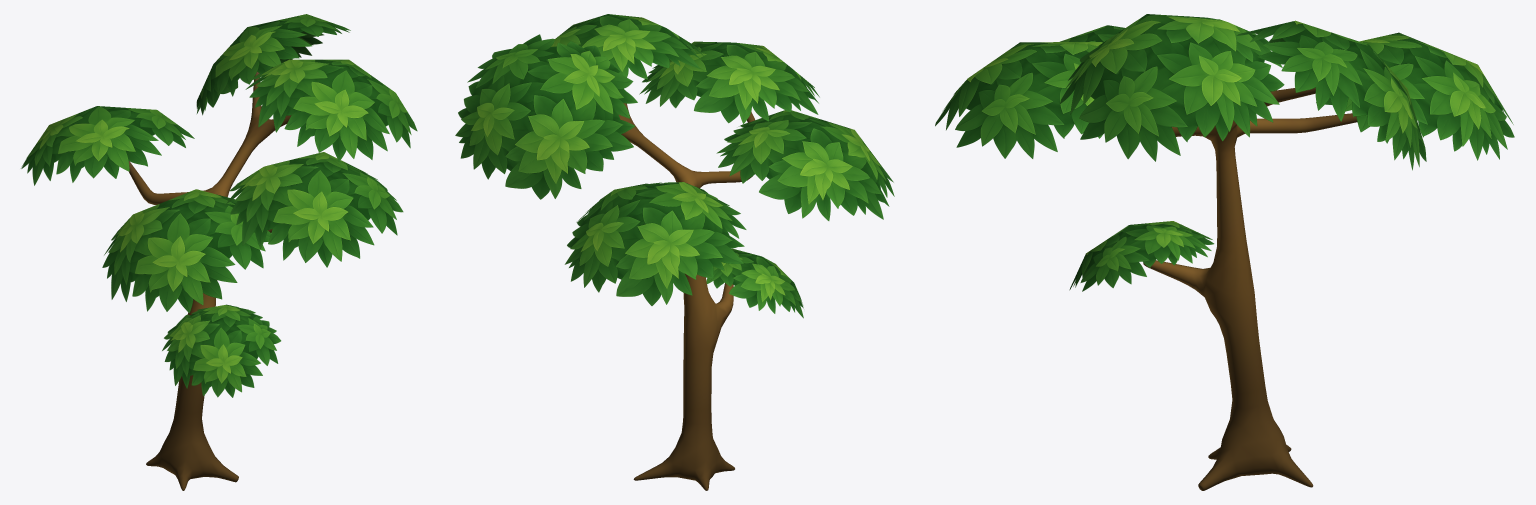
Rendered from tree-2.glb.
3 views of the same model, side by side, from view 1: azimuth 30°, elevation 25°; view 2: azimuth 150°, elevation 25°; view 3: azimuth 270°, elevation 25° (orthographic). The views are drawn at different scales.
Parts seen in each view (by area): view 1: canopy-2, trunk-2; view 2: canopy-2, trunk-2; view 3: canopy-2, trunk-2.
Boxes of the visible parts, x1,y1,x2,y2 form: canopy-2: (21, 14, 417, 397); trunk-2: (128, 71, 291, 490); canopy-2: (455, 14, 894, 318); trunk-2: (618, 103, 754, 490); canopy-2: (935, 14, 1514, 291); trunk-2: (1143, 87, 1357, 490).
Size of the model in its own units: 2 by 2.35 by 2.47.
1 material, 1 textured.
